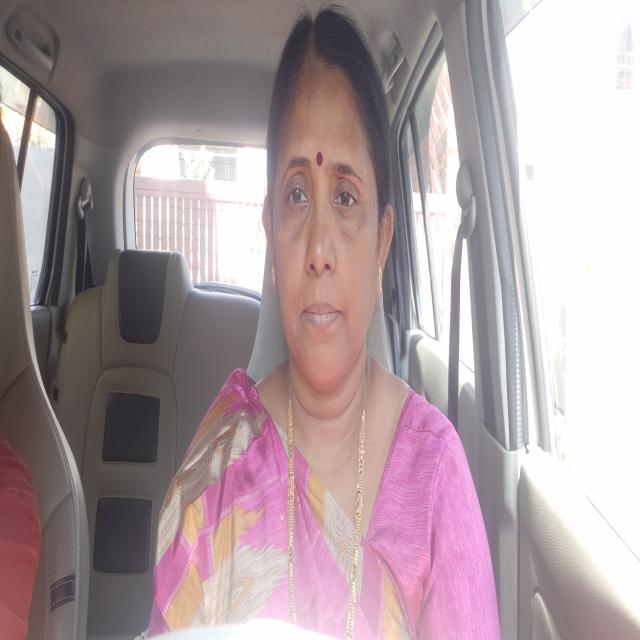person: (274, 23, 393, 402)
